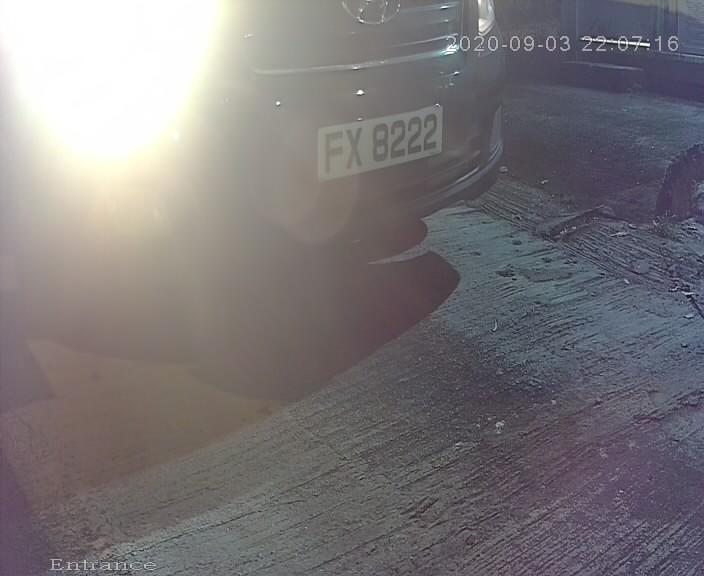License Plate: (309, 93, 444, 193)
